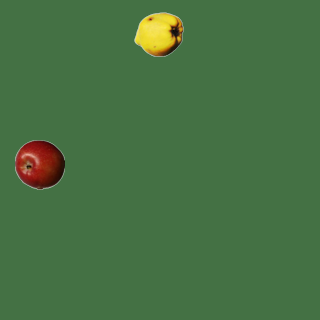Apple Braeburn: (14, 139, 64, 189)
Quince: (133, 9, 183, 59)
